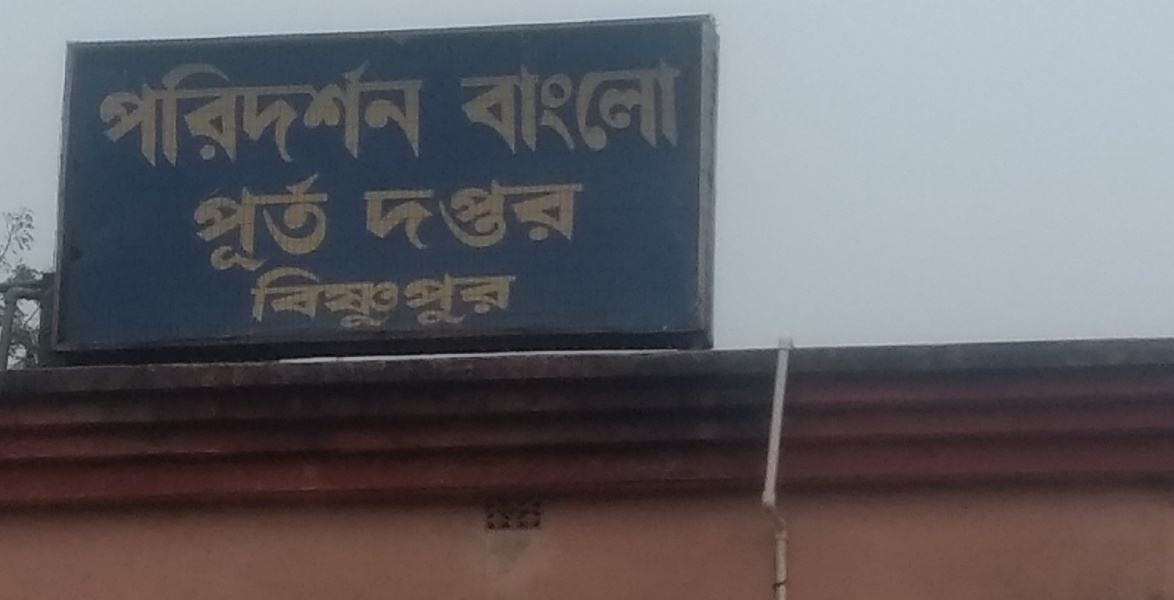text: (193, 169, 208, 288), (209, 169, 224, 288), (225, 169, 240, 288), (241, 169, 256, 288), (257, 169, 272, 288), (273, 169, 288, 288), (289, 169, 304, 288), (305, 169, 320, 288), (321, 169, 336, 288), (97, 56, 112, 173), (113, 56, 128, 173), (129, 56, 144, 173), (145, 56, 160, 173), (161, 56, 176, 173), (177, 56, 192, 173), (193, 56, 208, 173), (209, 56, 224, 173), (225, 56, 240, 173), (241, 56, 256, 173), (257, 56, 272, 173), (273, 56, 288, 173), (289, 56, 304, 173), (305, 56, 320, 173), (321, 56, 336, 173), (337, 56, 352, 173), (353, 56, 368, 173), (369, 56, 384, 173), (385, 56, 400, 173), (401, 56, 416, 173), (465, 52, 480, 156), (481, 52, 496, 156), (497, 52, 512, 156), (513, 52, 528, 156), (529, 52, 544, 156), (545, 52, 560, 156), (561, 52, 576, 156), (577, 52, 592, 156), (593, 52, 608, 156), (609, 52, 624, 156), (625, 52, 640, 156), (641, 52, 656, 156), (657, 52, 672, 156), (417, 56, 428, 173), (673, 52, 685, 156), (369, 178, 384, 256), (385, 178, 400, 256), (401, 178, 416, 256), (417, 178, 432, 256), (433, 178, 448, 256), (449, 178, 464, 256), (465, 178, 480, 256), (481, 178, 496, 256), (497, 178, 512, 256), (513, 178, 528, 256), (529, 178, 544, 256), (545, 178, 560, 256), (561, 178, 576, 256), (273, 255, 288, 331), (289, 255, 304, 331), (305, 255, 320, 331), (321, 255, 336, 331), (337, 255, 352, 331), (353, 255, 368, 331), (369, 255, 384, 331), (385, 255, 400, 331), (401, 255, 416, 331), (417, 255, 432, 331), (433, 255, 448, 331), (449, 255, 464, 331), (465, 255, 480, 331), (481, 255, 496, 331), (497, 255, 512, 331), (258, 255, 272, 331), (457, 52, 464, 156), (577, 178, 586, 256), (187, 169, 192, 288), (337, 169, 342, 288), (362, 178, 368, 256), (513, 255, 519, 331), (93, 56, 96, 173)
